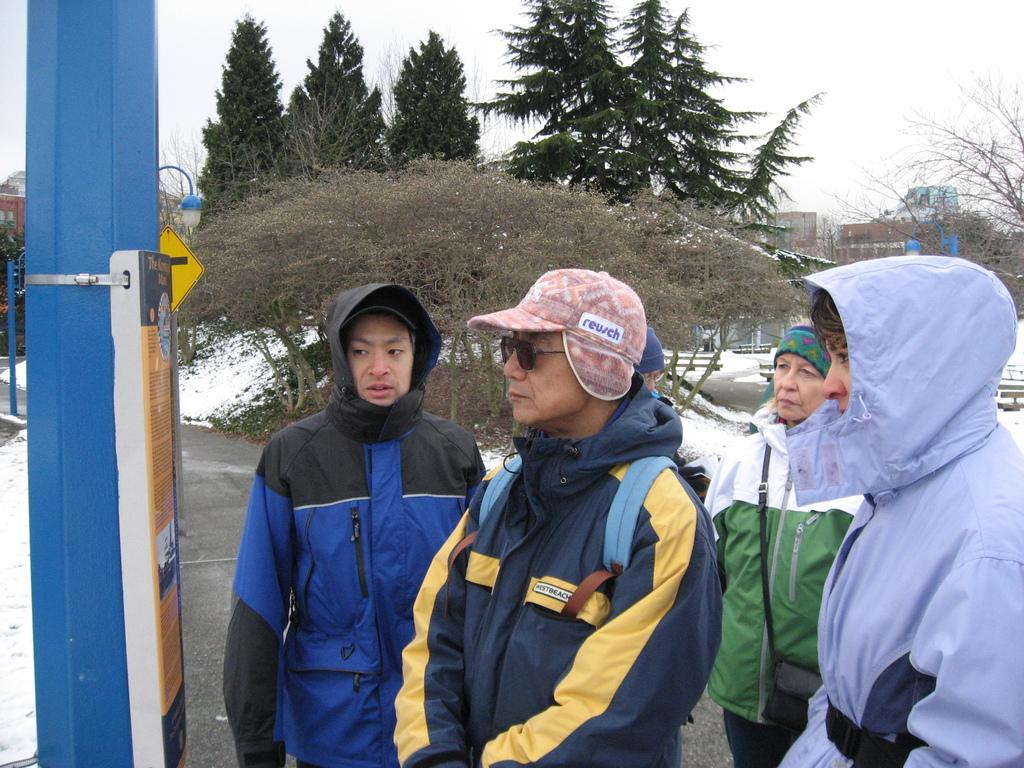Hat: (468, 266, 648, 400)
